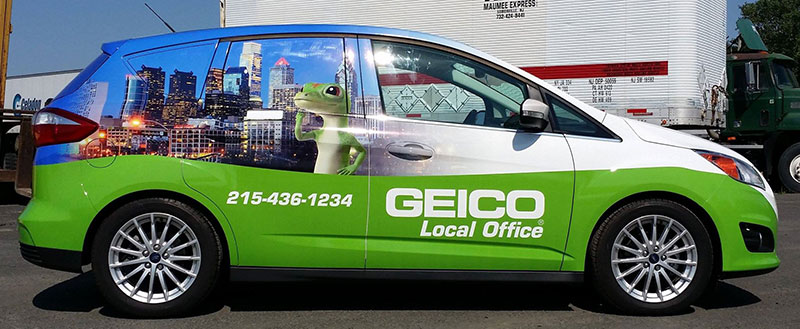geico: (385, 182, 561, 223)
